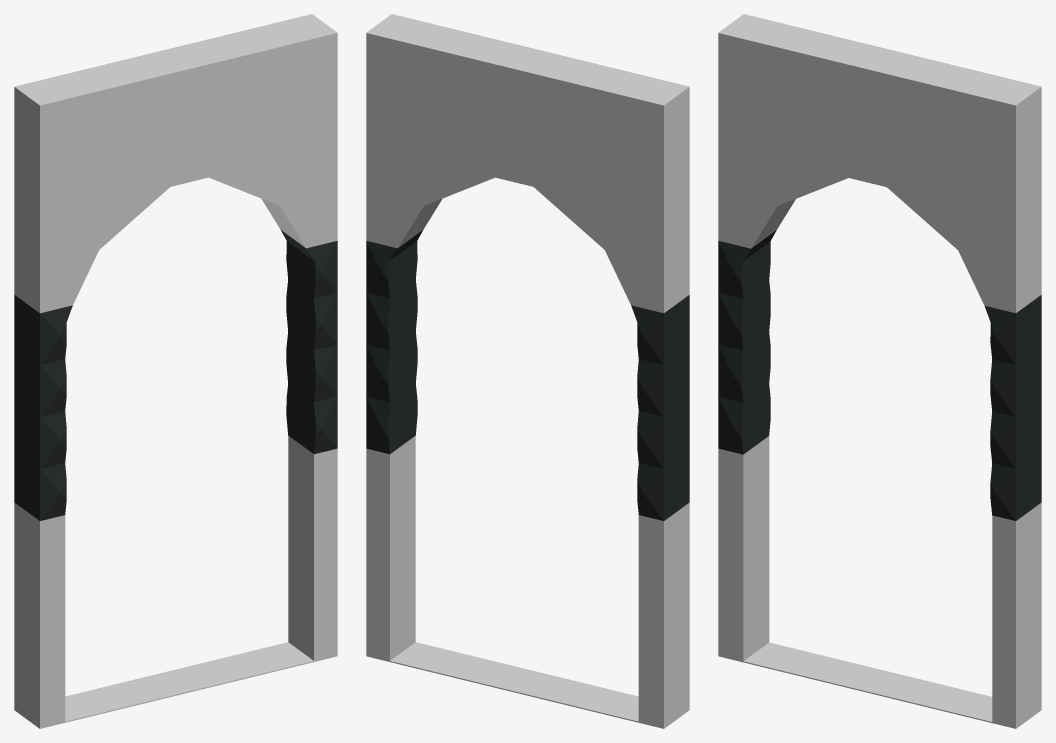
Rendered from AcousticPanelDoorframe.glb.
3 views of the same model, side by side, from view 1: azimuth 30°, elevation 25°; view 2: azimuth 150°, elevation 25°; view 3: azimuth 330°, elevation 25° (orthographic).
Parts seen in each view (by area): view 1: wall_acousticPanel_door; view 2: wall_acousticPanel_door; view 3: wall_acousticPanel_door.
Boxes of the visible parts, box(x1,y1,x2,y2) form: wall_acousticPanel_door: box(14, 14, 337, 728); wall_acousticPanel_door: box(366, 14, 689, 728); wall_acousticPanel_door: box(718, 14, 1041, 728).
Size of what is drawn, in the model's own units: 2 by 4 by 0.3584.
Materials: 1 (1 with a texture image).
